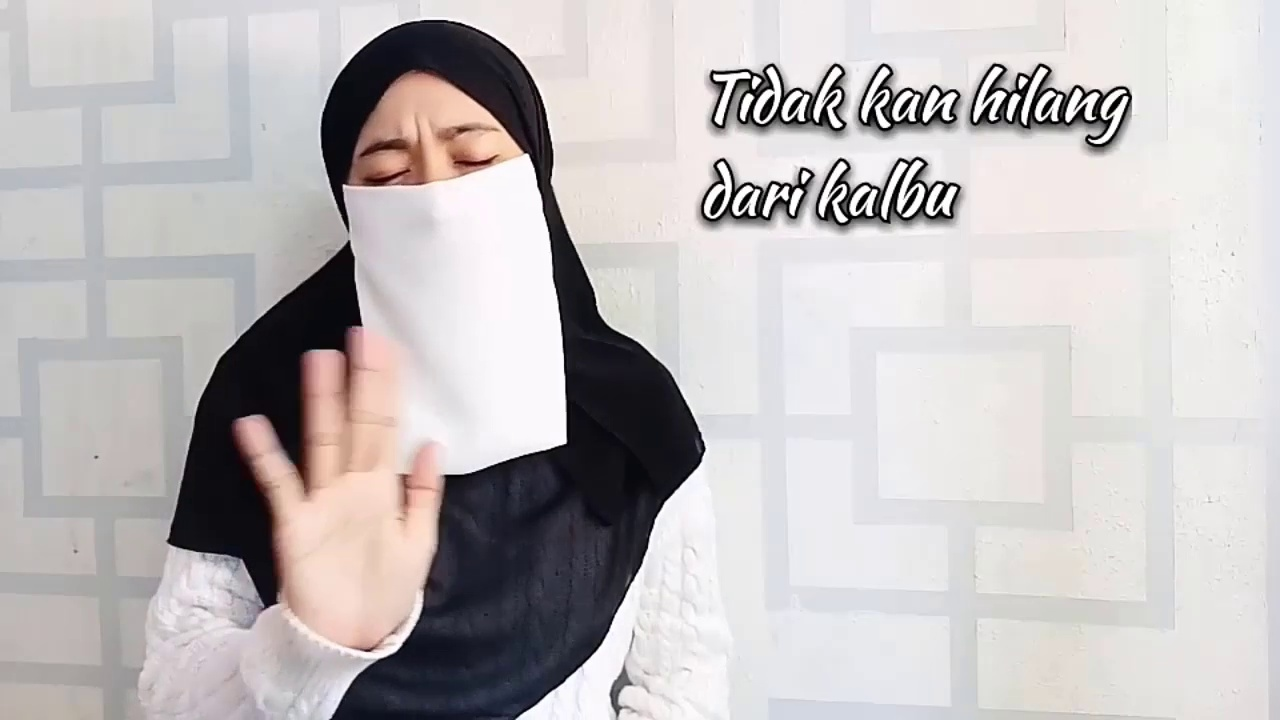TIDAK: (220, 18, 565, 679)
